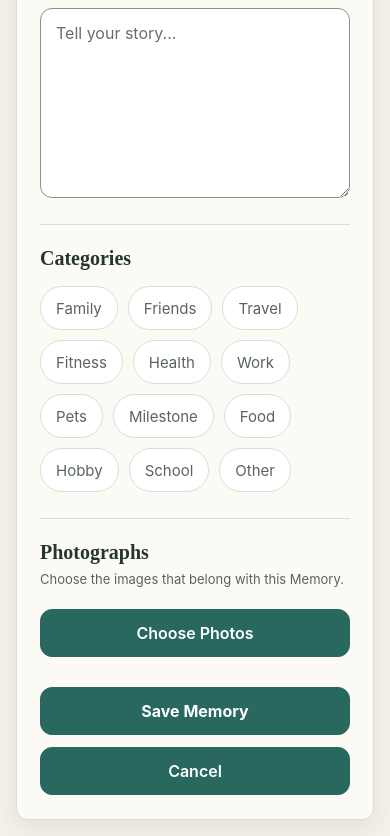
it: native partial selection keeps converted photos and reports the unreadable remainder
The width and height of the screenshot is (390, 836).
(page scrolled)
Click the button "Choose Photos" at (195,633), box [40,609,350,657]
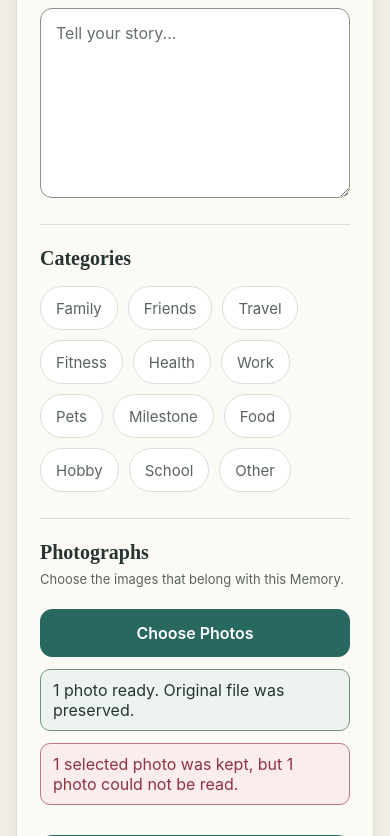
Expected: the message "1 selected photo was kept, but 1 photo could not be read." is shown, [40,743,350,805]
